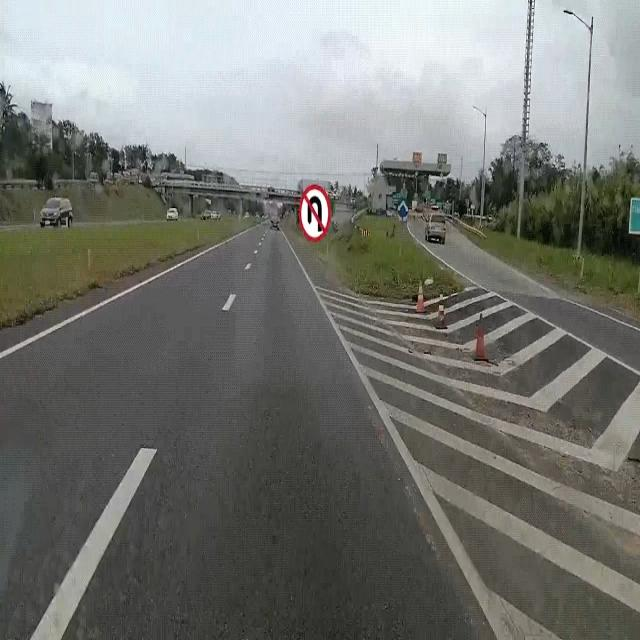Demi-Tour-Interdit: (297, 180, 333, 244)
